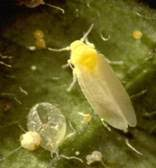Tobacco Whitefly: (64, 37, 139, 129)
